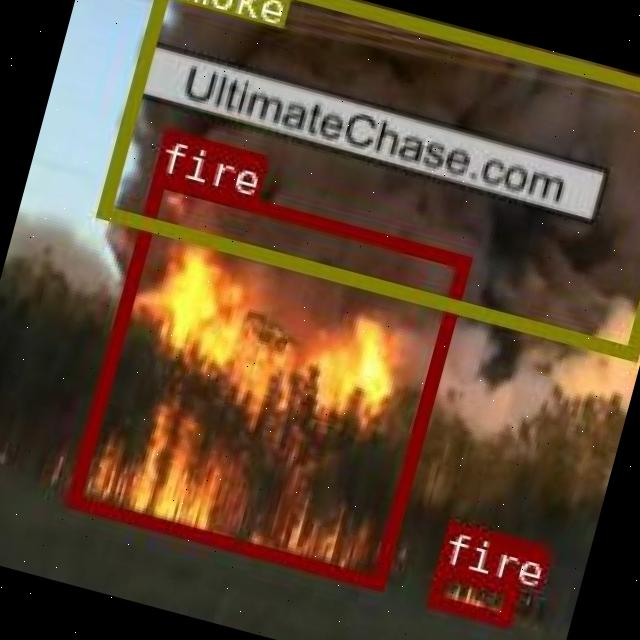fire: (64, 170, 469, 586), (426, 563, 518, 625)
smoke: (94, 0, 640, 357)
